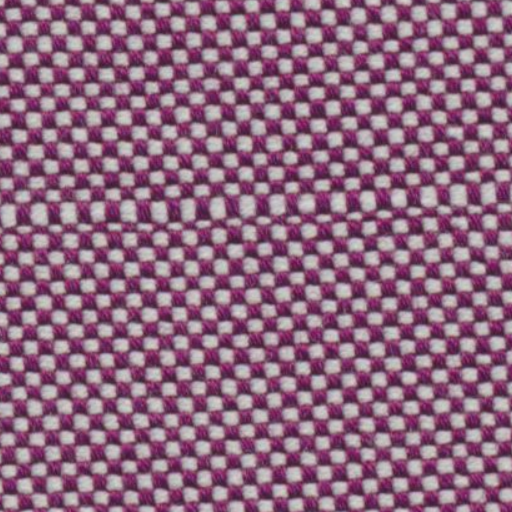TuoSha: (6, 171, 496, 248)
